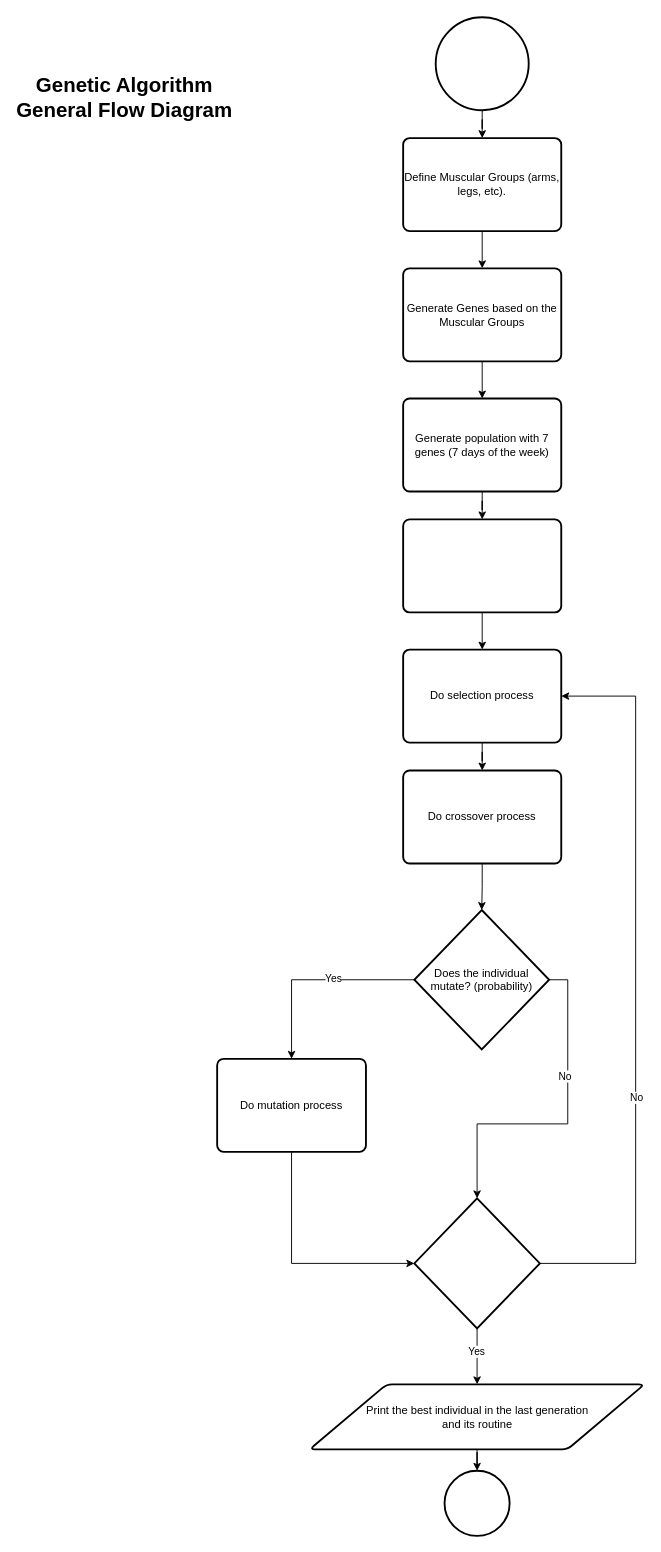
Some shapes in this 661 by 1552 pixel diagram are drawn without their labels. Each missing label, with the centre of its shape:
All generations are already generated?: (x=476, y=1263)
Decide the number of generations for the algorithm: (x=482, y=565)
END: (x=476, y=1502)
START: (x=481, y=63)
